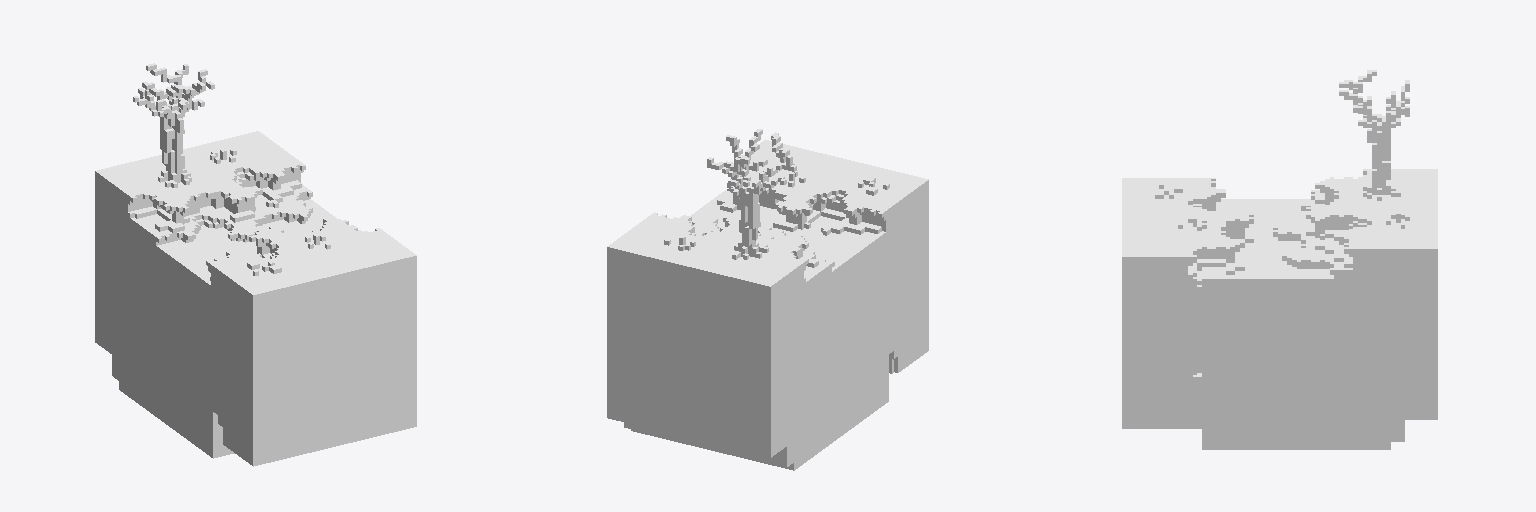
Rendered from MountainRocks-8.obj.
3 views of the same model, side by side, from view 1: azimuth 30°, elevation 25°; view 2: azimuth 150°, elevation 25°; view 3: azimuth 270°, elevation 25° (orthographic).
Parts seen in each view (by area): view 1: object 1; view 2: object 1; view 3: object 1.
Boxes of the visible parts, <box> form: object 1: <box>95,63,416,466</box>; object 1: <box>607,129,928,470</box>; object 1: <box>1122,70,1437,449</box>.
Size of the model in its own units: 4 by 7.2 by 6.7.